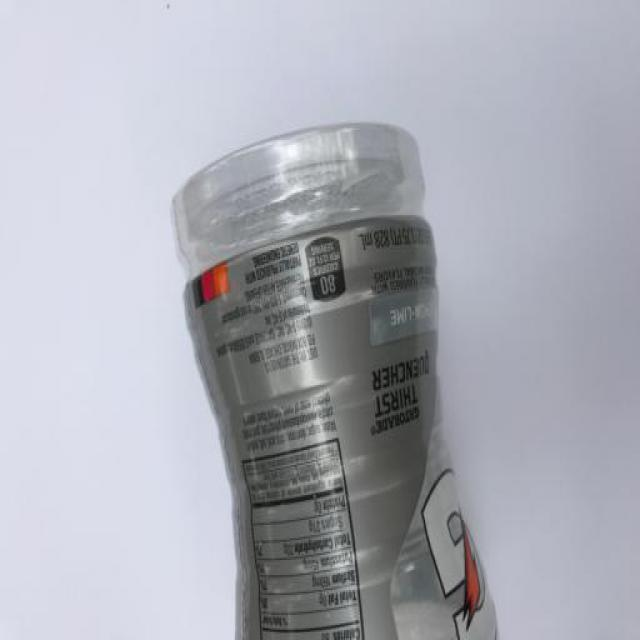plastic_bottle: (164, 109, 514, 640)
